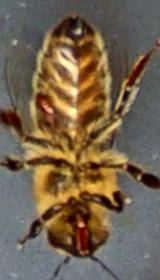varroa_mite: (29, 77, 62, 118)
